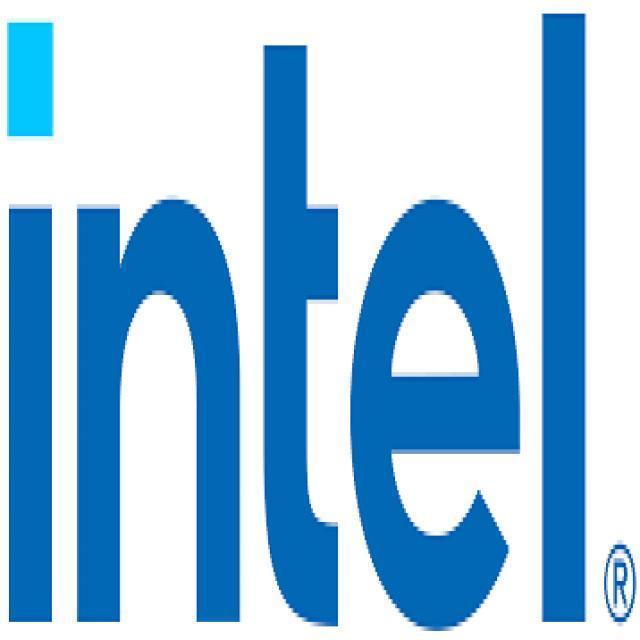intel: (4, 4, 607, 636)
